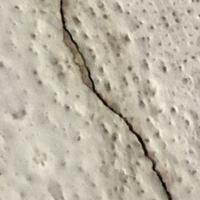crack: (58, 0, 174, 199)
